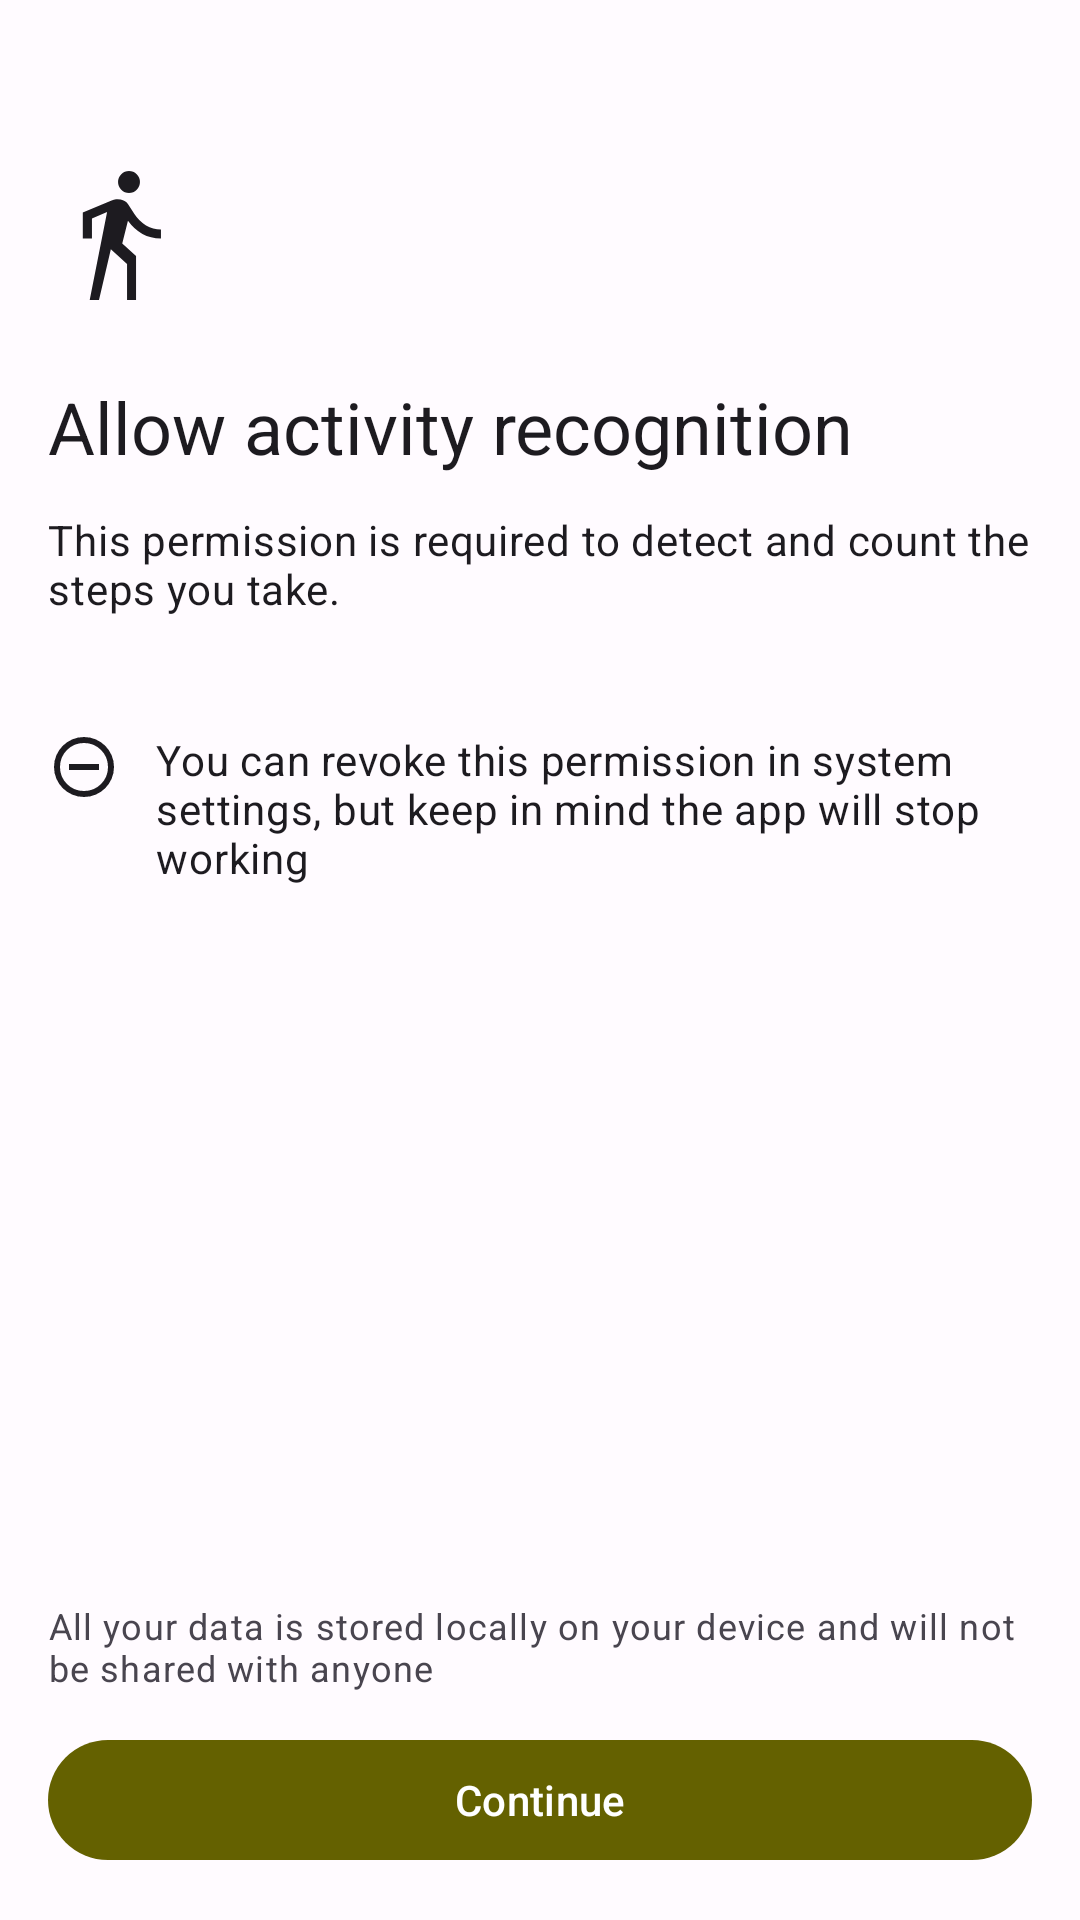

Icons on this 1080 × 1920 Android screen, each with its box as bbox=[x1, y1, x2, y2]:
directions walk: bbox=[82, 171, 161, 300]
do not disturb on: bbox=[54, 737, 114, 797]
